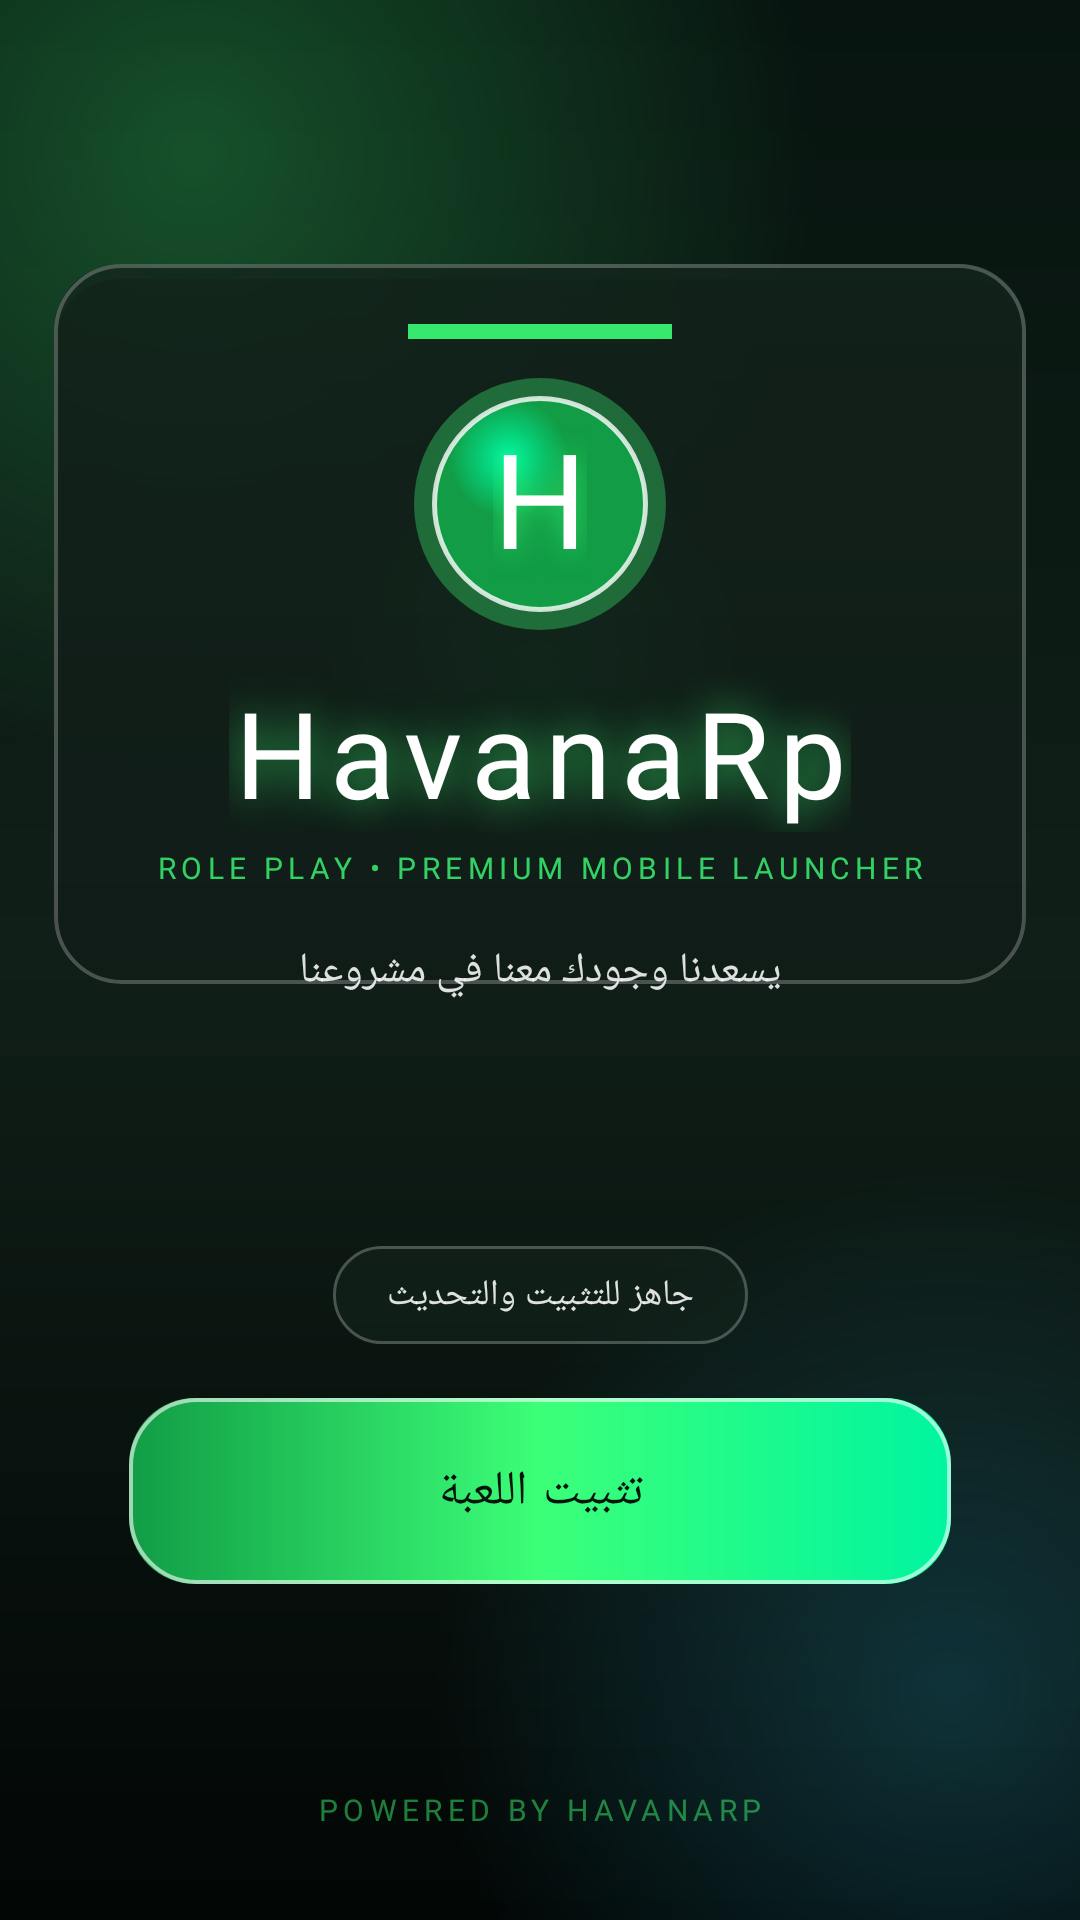

Icons on this 1080px x 1920px Android screen, each with the point to tap as point (x, y):
havana brand badge: point (540, 504)
